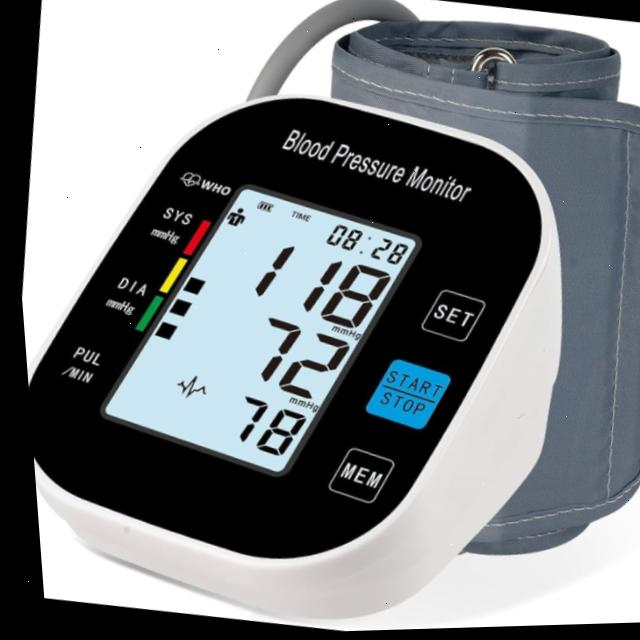dia: (228, 307, 348, 416)
pul: (205, 383, 306, 471)
ssd: (95, 147, 415, 510)
sys: (237, 229, 393, 342)
